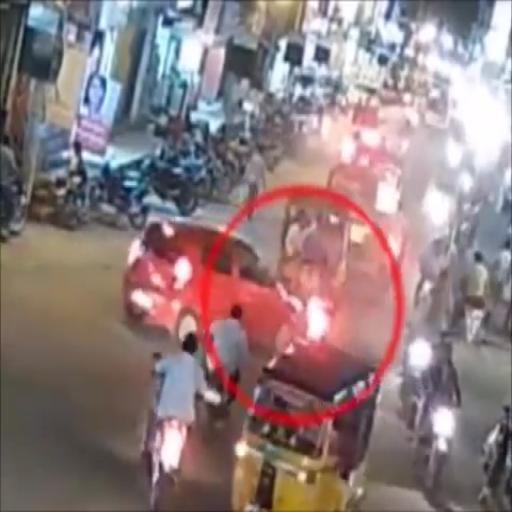小汽车: (234, 334, 380, 509), (277, 198, 347, 301)
小汽车撞自行车: (120, 214, 341, 344)
自行车: (144, 325, 203, 510), (202, 299, 246, 433)
